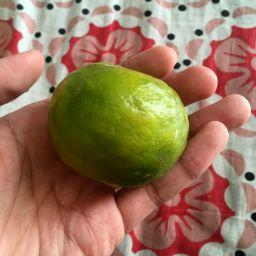Unripe: (47, 61, 193, 188)
